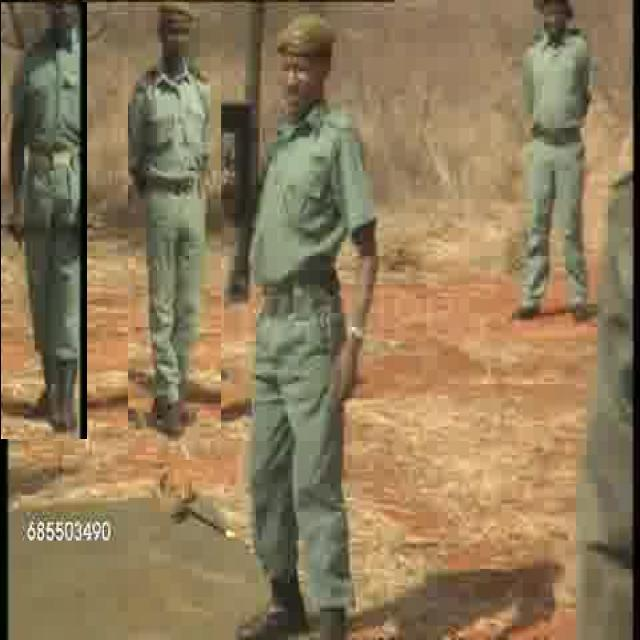poacher: (254, 2, 386, 624), (128, 2, 221, 460), (1, 2, 87, 439), (514, 1, 624, 342)
weapon: (220, 2, 262, 306)
